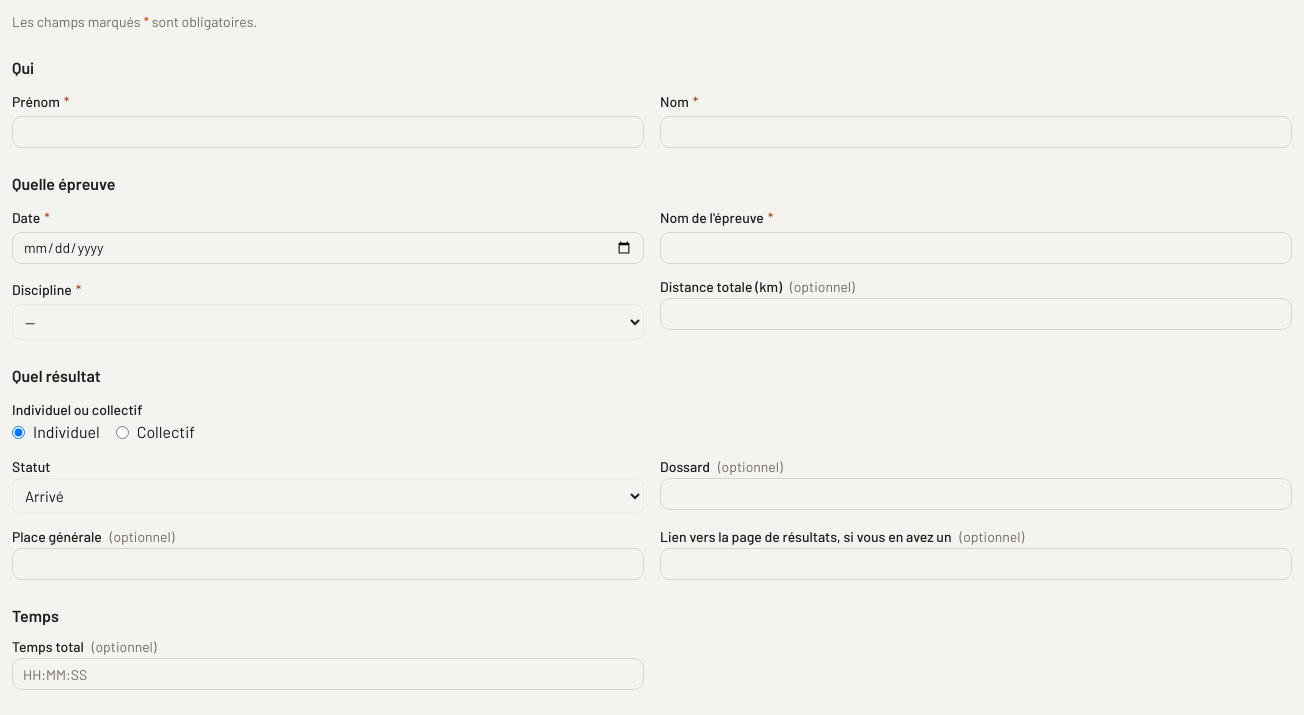
Scenario: ManualResultForm — requis, optionnel et validation au blur (ACT-11) › valide au blur : quitter Prénom vide affiche son message sans soumettre
This screenshot has width=1304, height=715.
Click the field labelled "Prénom" at (328, 132), box x1=12 y1=116 x2=644 y2=148
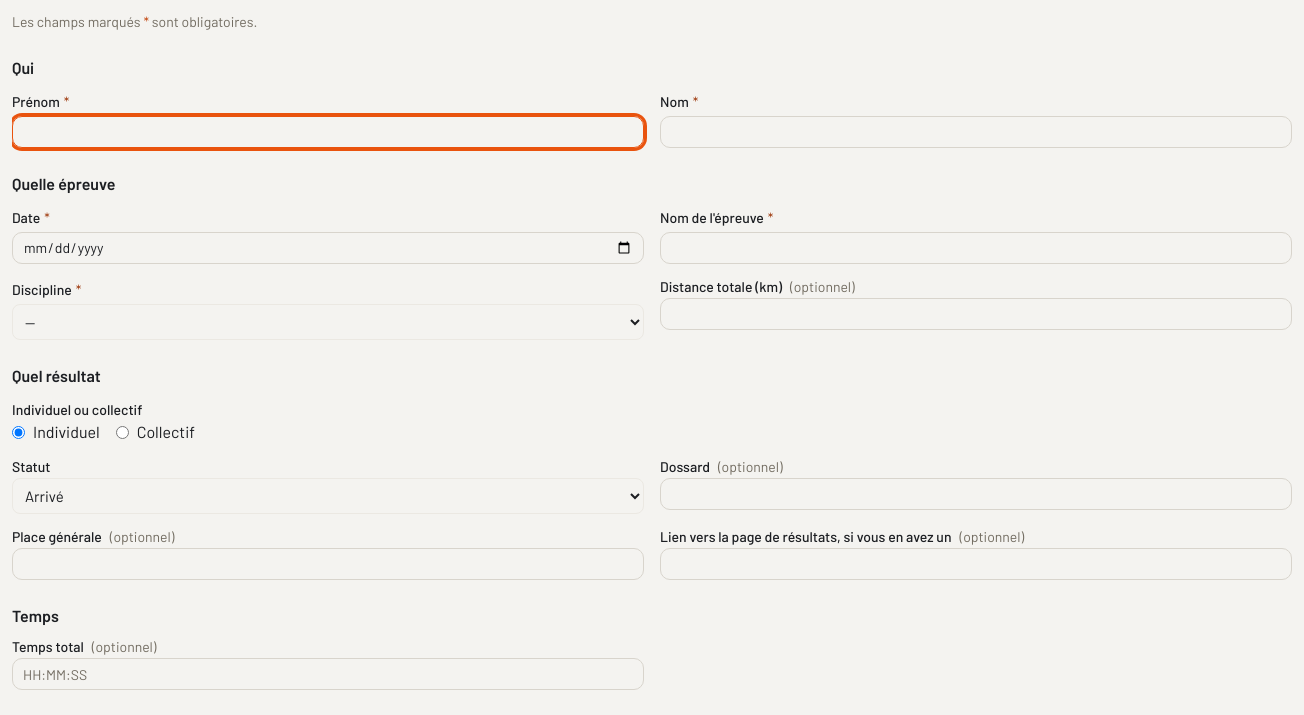
Press Tab
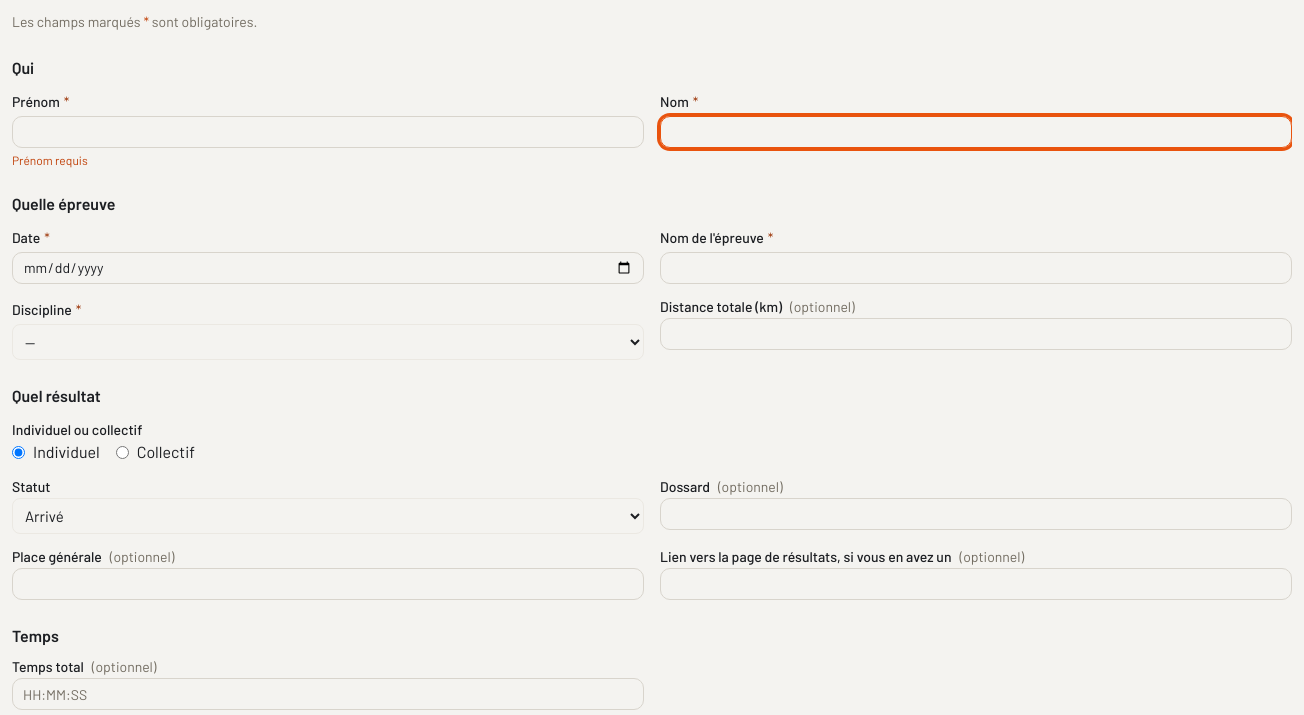
Check: the text "Prénom requis" is shown, box x1=12 y1=153 x2=88 y2=167
